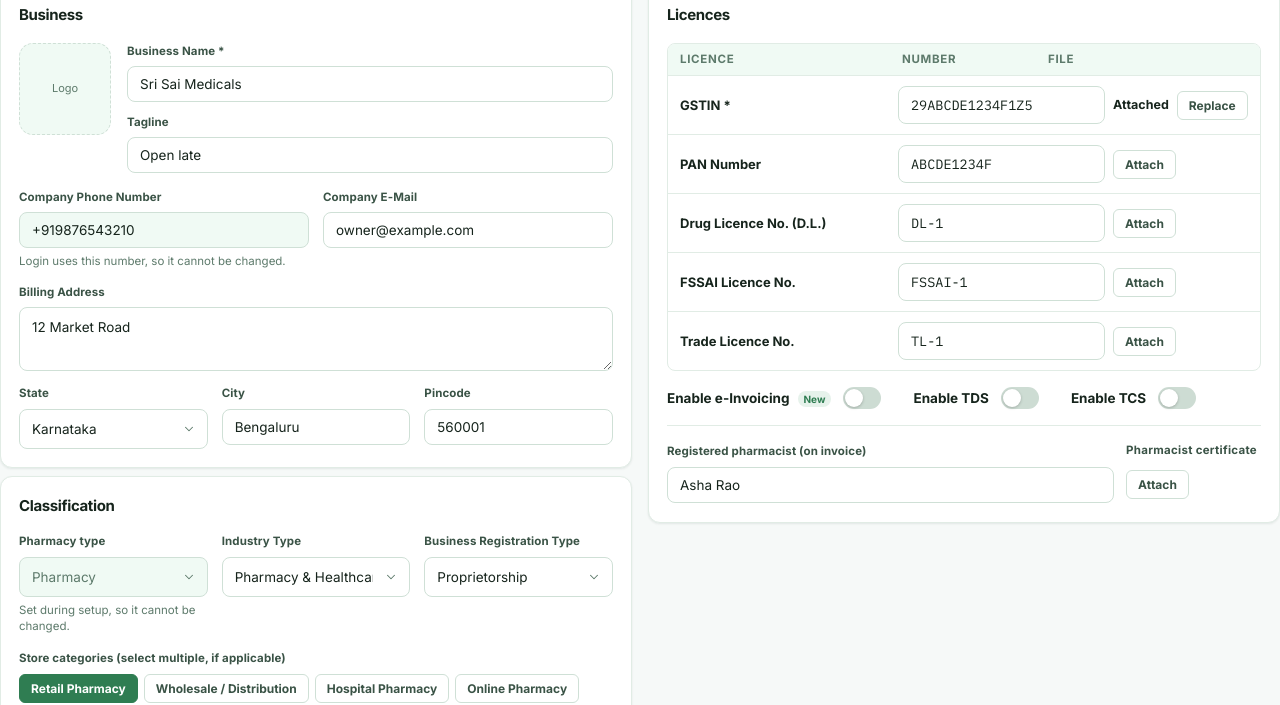
Test: ProfilePage › confirms a safe save and stays on the page
The image size is (1280, 705).
Replace the text in the field labelled "Tagline" with "Open early" at [370, 155], box [127, 137, 613, 173]
(page scrolled)
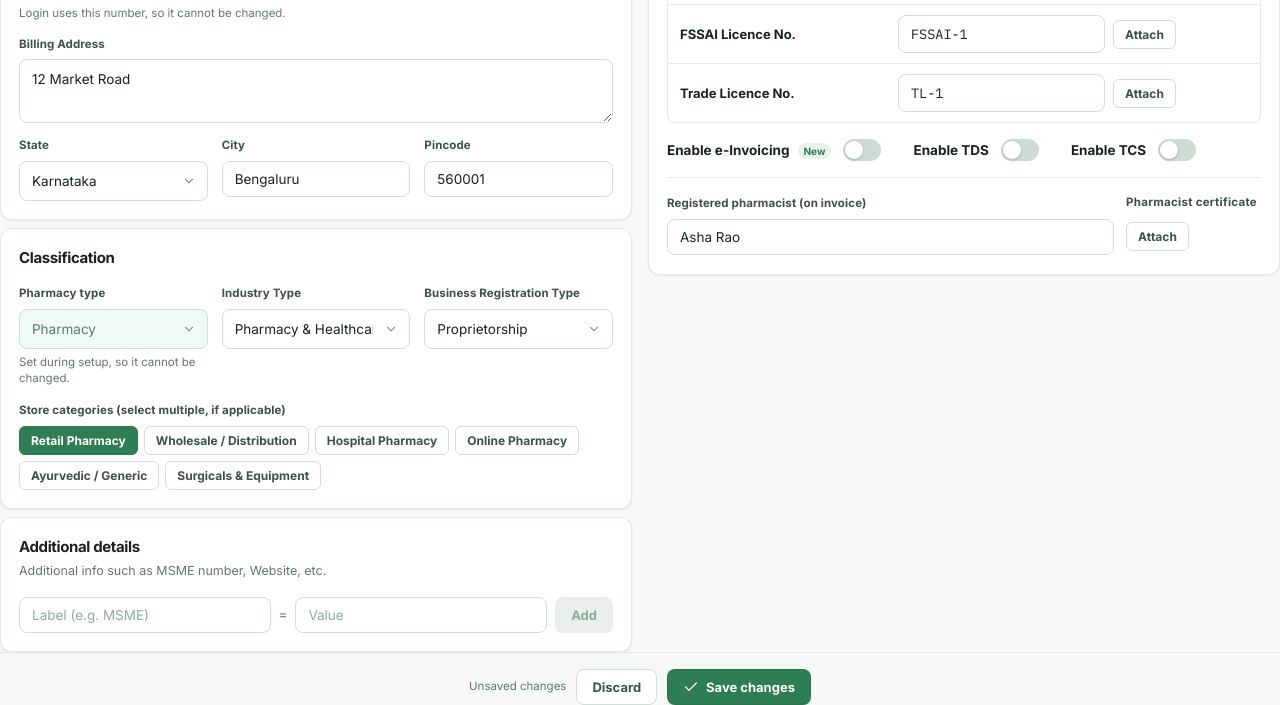
Click the button "Save changes" at [739, 687], box [667, 669, 811, 704]
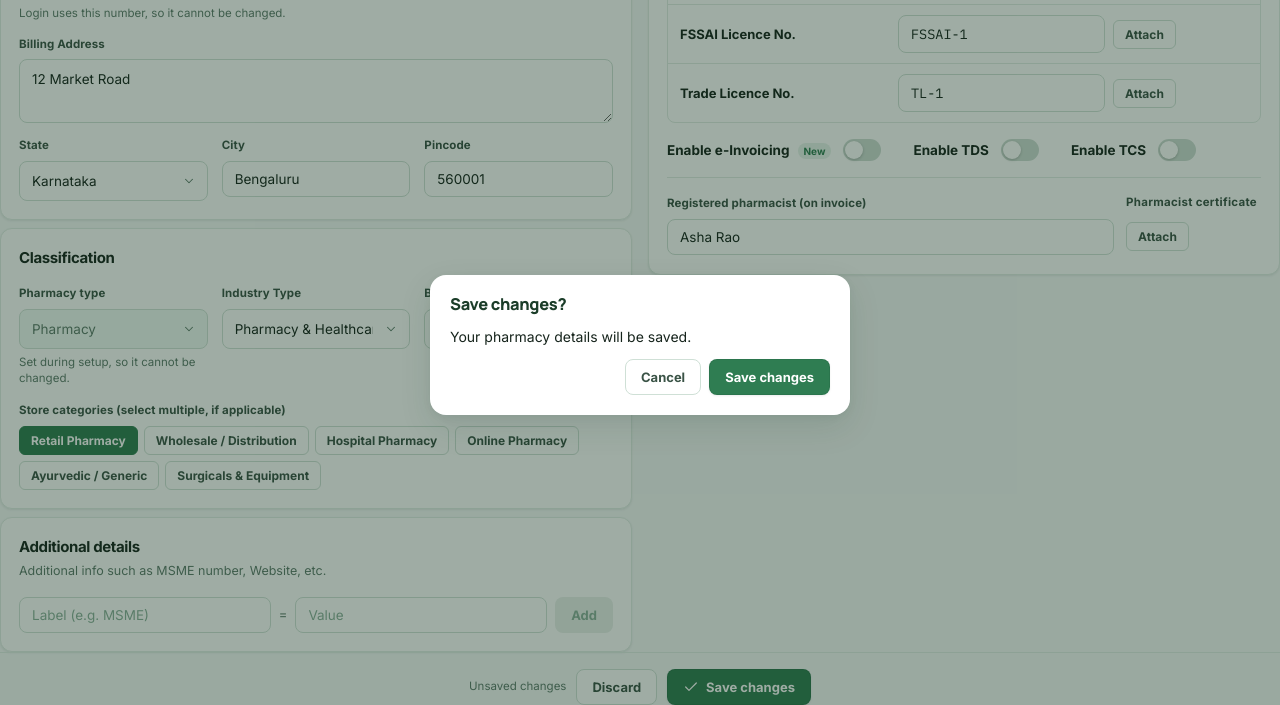
Expected: the text "Your pharmacy details will be saved." is shown, [450, 328, 691, 345]
Click the button "Save changes" at [770, 377], box [709, 359, 830, 395]
(page scrolled)
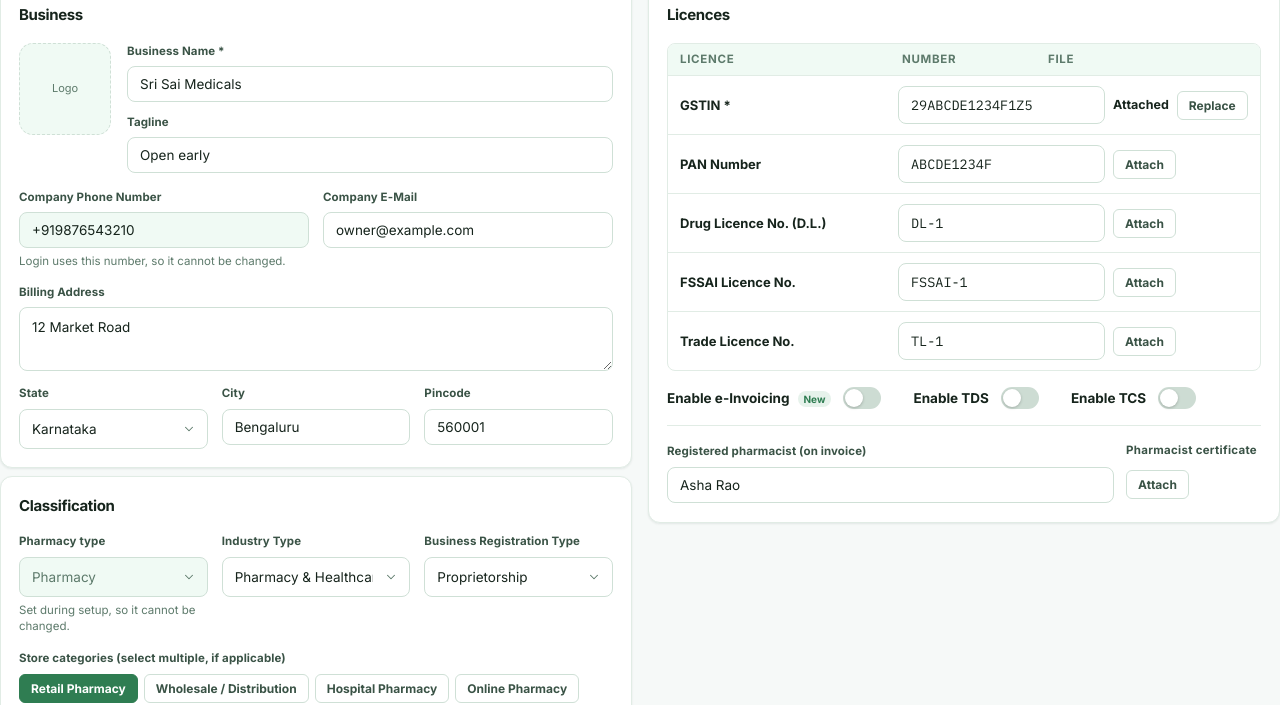
Expected: the text "Unsaved changes" is gone
Expected: the dialog is gone
